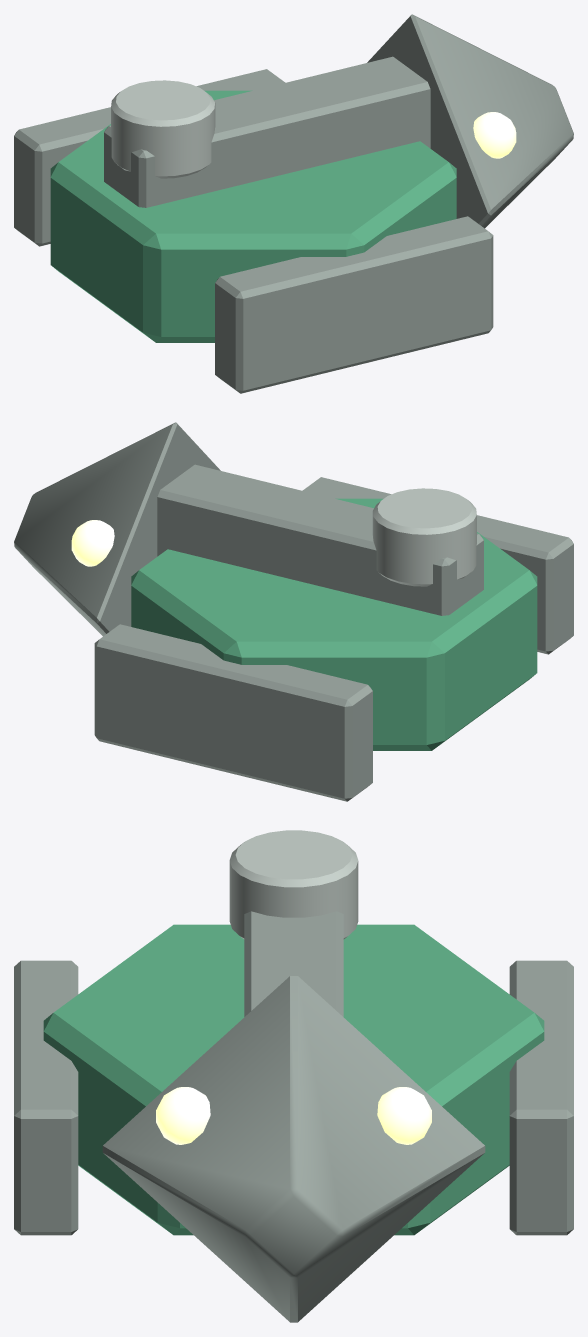
File: enemy_armored.glb
3 renders of one model, top to bottom at view 1: azimuth 30°, elevation 25°; view 2: azimuth 150°, elevation 25°; view 3: azimuth 270°, elevation 25°, orthographic. The views are drawn at different scales.
Visible parts, largest first — view 1: Cylinder, Cube.001, Cube, Cone, Cylinder.001, Cube.002, Sphere; view 2: Cylinder, Cube.002, Cube, Cone, Cylinder.001, Cube.001, Sphere.001; view 3: Cone, Cylinder, Cube.001, Cube.002, Cylinder.001, Cube, Sphere, Sphere.001.
Part boxes in pixels (x1,y1,x2,y2): Cylinder: (50, 90, 456, 342); Cube.001: (215, 216, 493, 393); Cube: (104, 56, 430, 207); Cone: (367, 14, 573, 228); Cylinder.001: (111, 80, 215, 178); Cube.002: (14, 69, 285, 246); Sphere: (473, 112, 516, 158); Cylinder: (131, 498, 537, 750); Cube.002: (94, 624, 372, 801); Cube: (157, 464, 483, 615); Cone: (14, 422, 220, 636); Cylinder.001: (372, 488, 476, 586); Cube.001: (302, 477, 573, 654); Sphere.001: (71, 520, 114, 566); Cone: (102, 974, 485, 1322); Cylinder: (43, 924, 544, 1235); Cube.001: (14, 960, 78, 1235); Cube.002: (509, 960, 573, 1235); Cylinder.001: (229, 830, 358, 939); Cube: (244, 911, 343, 1016); Sphere: (156, 1087, 210, 1144); Sphere.001: (377, 1087, 431, 1144).
Size of the model in its own units: 1.32 by 0.7717 by 1.13.
